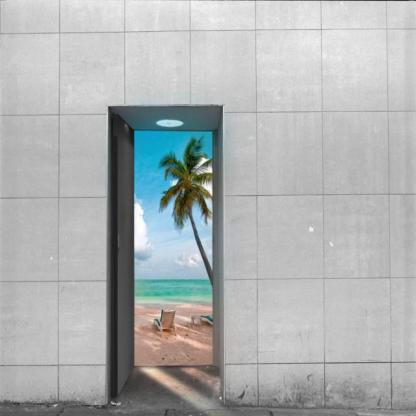door: (101, 94, 232, 412)
